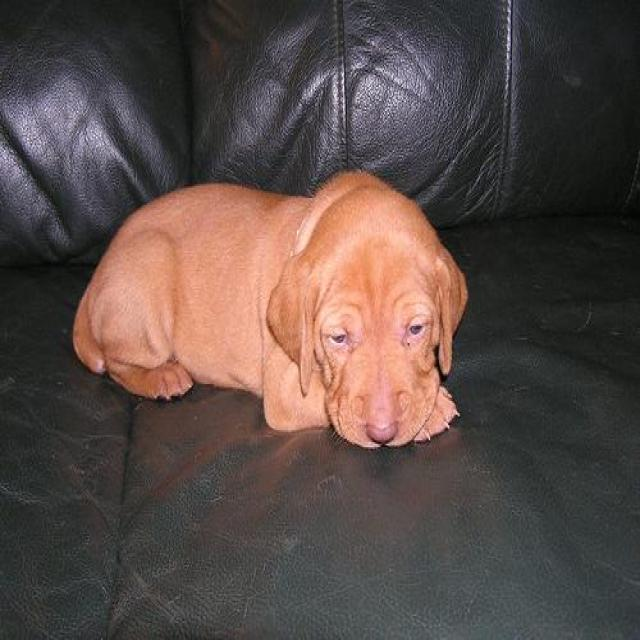vizsla: (69, 165, 469, 449)
